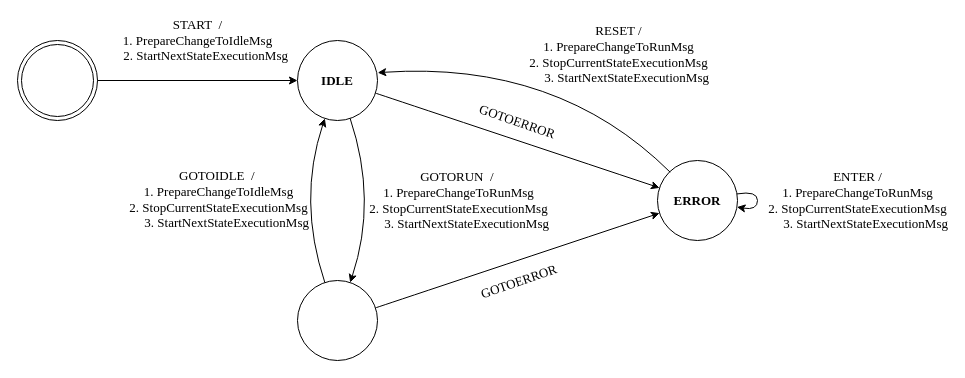
The diagram is 965 pixels wide and 378 high, and some of its shapes have lost their labels. Here are the shapes that lost their labels. From the top down, the centre of each, then its label:
At point 57,80: "INITIAL".
At point 337,320: "RUN".
